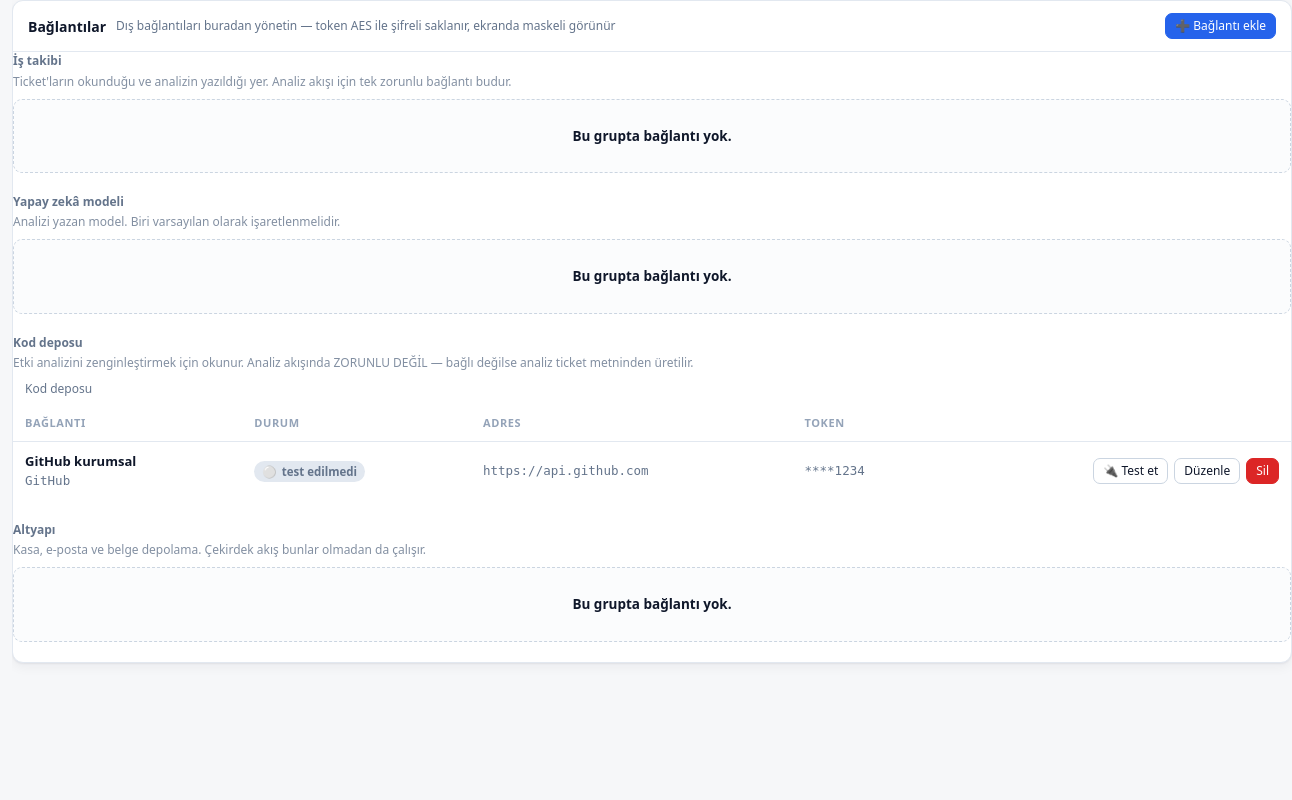
connectors panel › runs a live test and renders the result inline
This screenshot has width=1292, height=800.
Expected: the text "GitHub" is shown, [25,473,70,488]
Click the button "🔌 Test et": (1131, 471) [1093,458,1168,484]
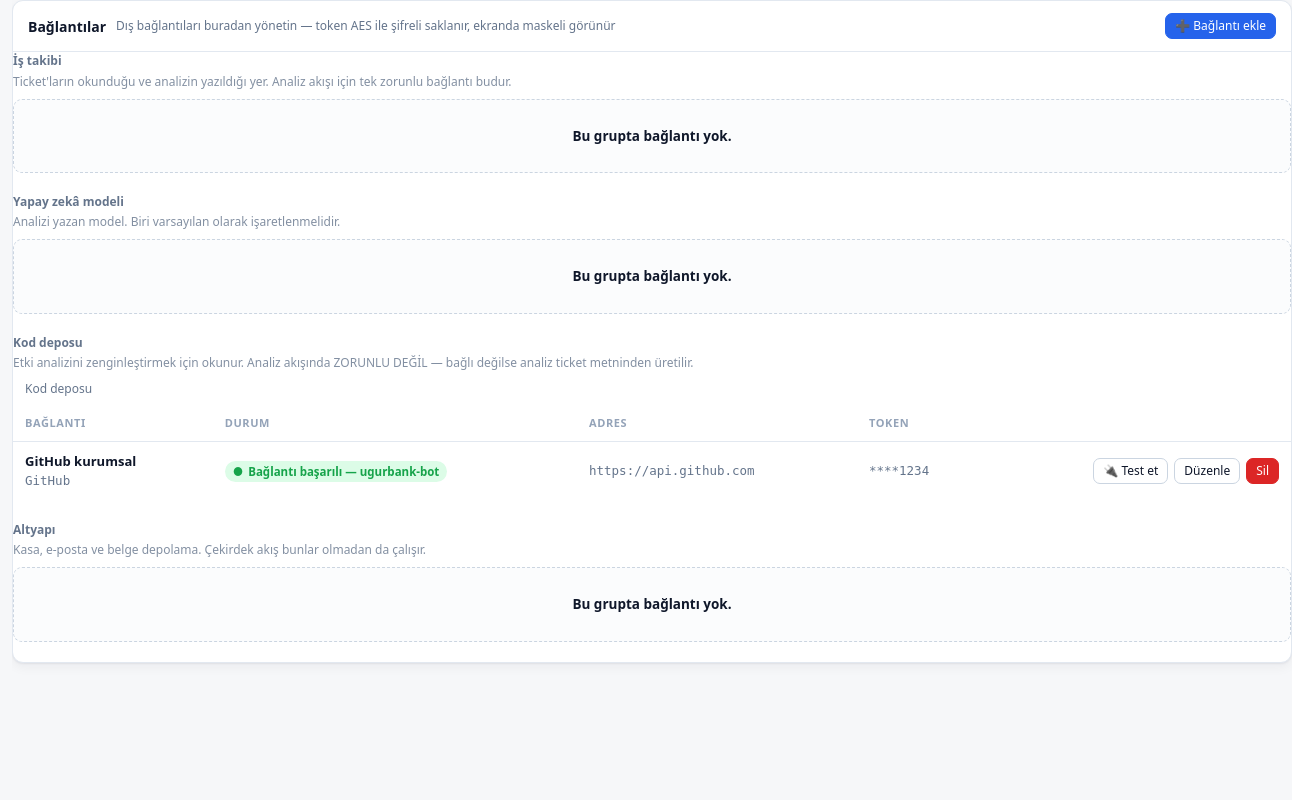
Expected: the text "Bağlantı başarılı — ugurbank-bot" is shown, [248,464,439,479]
